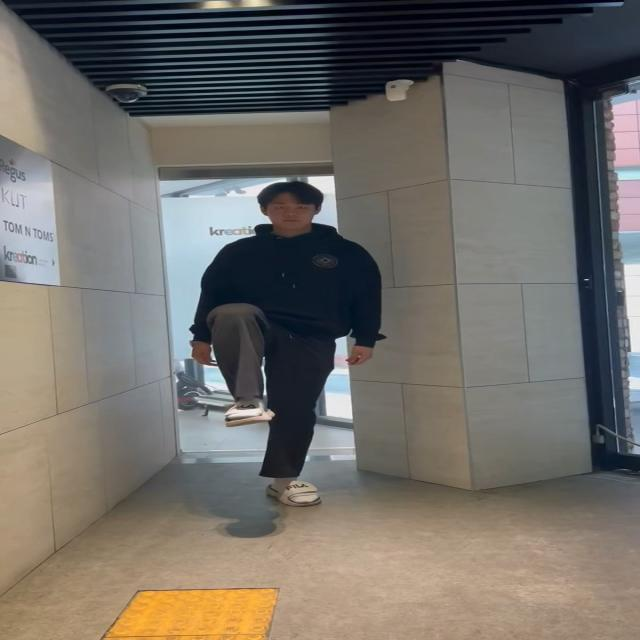knee: (202, 307, 284, 424)
